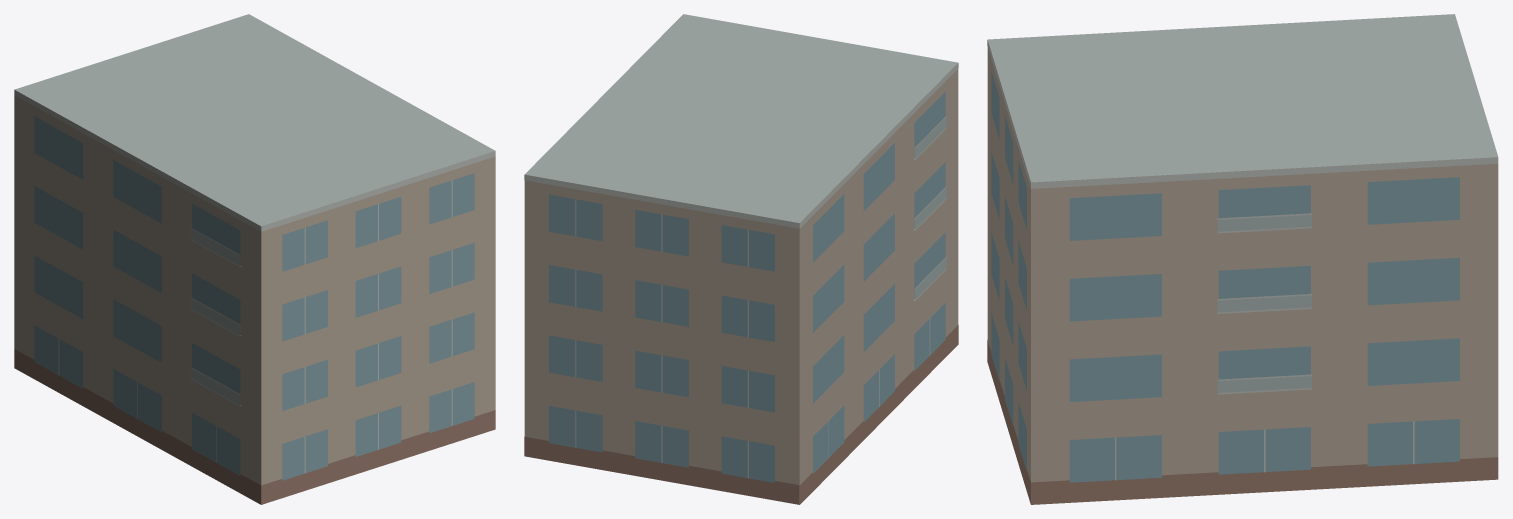
Rendered from residential-995f361f-3b2a-46f0-b885-ef7848cbf80a.glb.
3 renders of one model, left to right at view 1: azimuth 30°, elevation 25°; view 2: azimuth 150°, elevation 25°; view 3: azimuth 270°, elevation 25°, orthographic. The views are drawn at different scales.
Parts seen in each view (by area): view 1: residential-995f361f-3b2a-46f0-b885-ef7848cbf80a.tmp; view 2: residential-995f361f-3b2a-46f0-b885-ef7848cbf80a.tmp; view 3: residential-995f361f-3b2a-46f0-b885-ef7848cbf80a.tmp.
Part boxes in pixels (box(x1,y1,x2,y2)): residential-995f361f-3b2a-46f0-b885-ef7848cbf80a.tmp: box(14, 14, 495, 504); residential-995f361f-3b2a-46f0-b885-ef7848cbf80a.tmp: box(524, 14, 958, 504); residential-995f361f-3b2a-46f0-b885-ef7848cbf80a.tmp: box(987, 14, 1498, 504).
Bounding box in the file's own units: 13.68 × 12.2 × 17.53.
